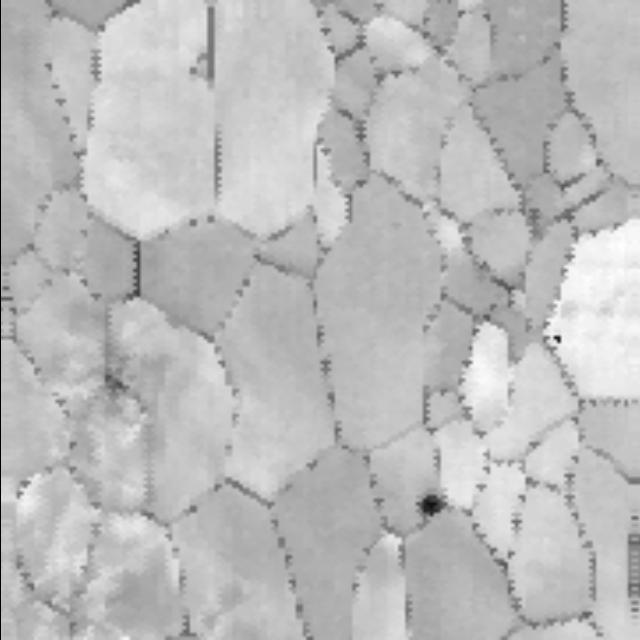good_void: (77, 351, 156, 433), (392, 484, 454, 526), (184, 48, 209, 81), (487, 199, 512, 223), (550, 327, 565, 349)
